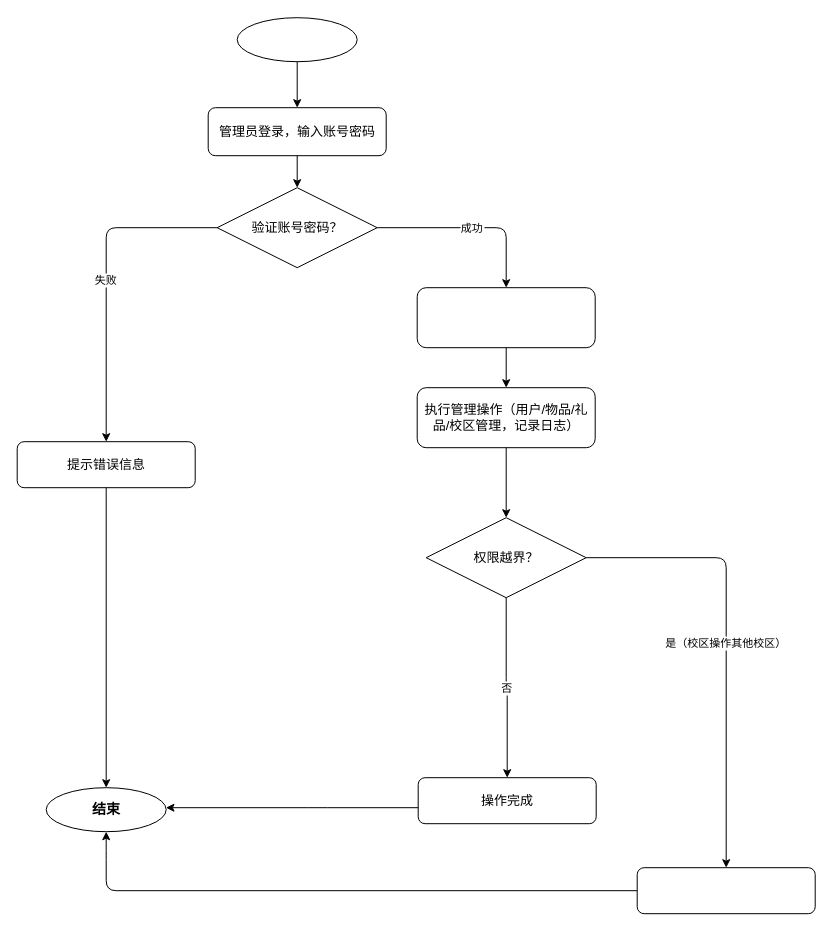
This 833x931 diagram has some shape labels left out. Each missing label, with the centre of its shape:
开始: the point at 296,39
按权限分配数据范围（超级：全局/校区：绑定校区）: the point at 505,317
系统直接拒绝操作: the point at 725,890
